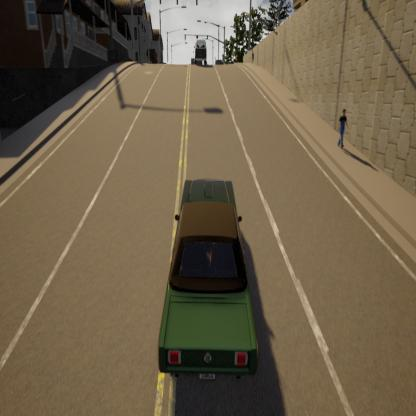Cars: (154, 170, 262, 390), (192, 38, 210, 66)
Pedestrian: (336, 103, 349, 156), (251, 47, 255, 65)
